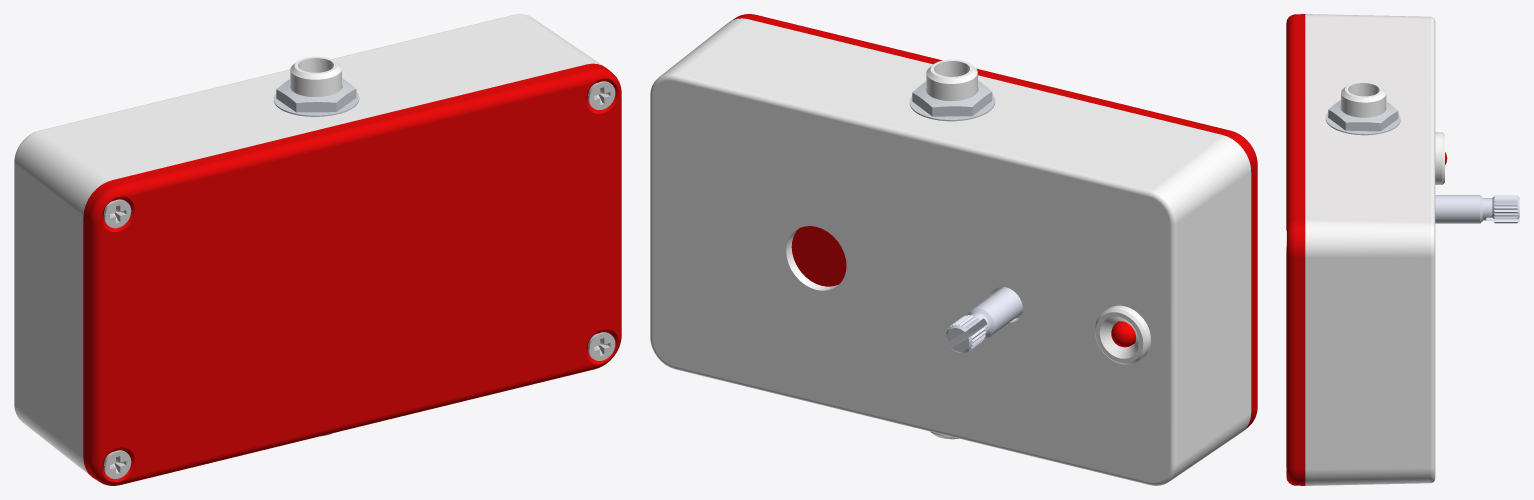
The model's file is cad-design.glb.
3 views of the same model, side by side, from view 1: azimuth 30°, elevation 25°; view 2: azimuth 150°, elevation 25°; view 3: azimuth 270°, elevation 25° (orthographic). The views are drawn at different scales.
Visible parts, largest first — view 1: Body1.001, Body1, Body1.011, Body1.015, Body1.034, Body1.035, Body1.036, Body1.037; view 2: Body1, Body1.001, Body1.019, Body1.031, Body1.011, Body1.015; view 3: Body1, Body1.001, Body1.019, Body1.011, Body1.015, Body1.031, Body1.014.
Part boxes in pixels (x1,y1,x2,y2): Body1.001: [83, 63, 621, 485]; Body1: [14, 14, 602, 475]; Body1.011: [290, 56, 341, 96]; Body1.015: [276, 78, 356, 112]; Body1.034: [588, 332, 615, 360]; Body1.035: [588, 81, 615, 109]; Body1.036: [104, 199, 131, 228]; Body1.037: [104, 450, 131, 478]; Body1: [650, 18, 1251, 485]; Body1.001: [730, 14, 1257, 430]; Body1.019: [946, 287, 1022, 353]; Body1.031: [1094, 305, 1150, 364]; Body1.011: [926, 59, 977, 101]; Body1.015: [912, 80, 992, 116]; Body1: [1305, 14, 1435, 485]; Body1.001: [1286, 14, 1305, 485]; Body1.019: [1435, 195, 1519, 223]; Body1.011: [1340, 81, 1386, 117]; Body1.015: [1328, 100, 1398, 131]; Body1.031: [1435, 132, 1444, 184]; Body1.014: [1325, 112, 1400, 135].
Bounding box in the file's own units: 0.112 × 0.073 × 0.0486.
